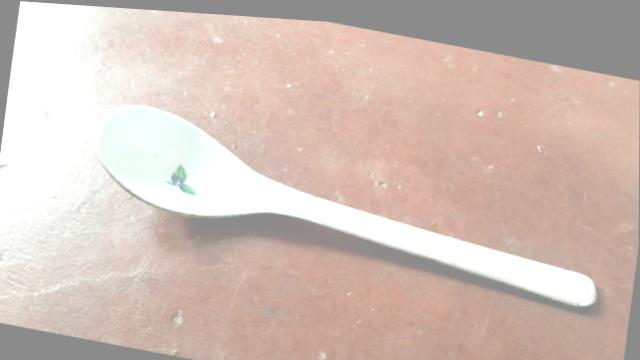Spoon: (94, 106, 596, 307)
